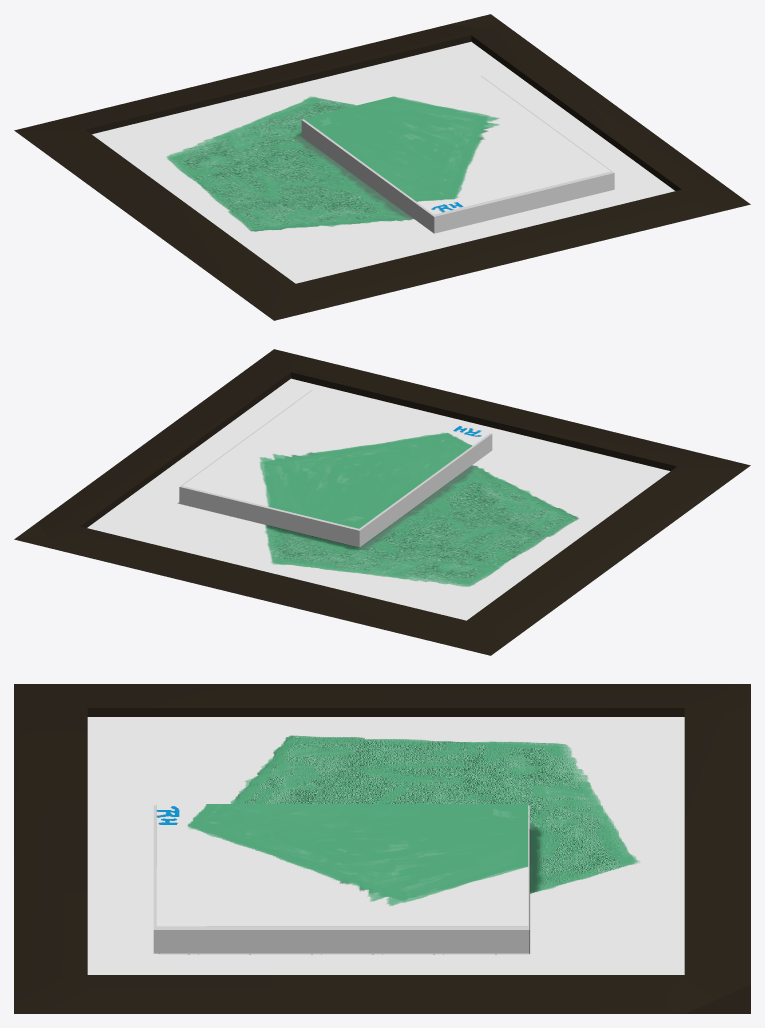
File: Painting8.fbx
3 renders of one model, top to bottom at view 1: azimuth 30°, elevation 25°; view 2: azimuth 150°, elevation 25°; view 3: azimuth 270°, elevation 25°, orthographic. The views are drawn at different scales.
Parts seen in each view (by area): view 1: pPlane1, pCube1, pPlane2, pCube2; view 2: pPlane1, pCube1, pPlane2, pCube2; view 3: pPlane1, pCube1, pPlane2, pCube2.
Boxes of the visible parts, box(x1,y1,x2,y2) form: pPlane1: box(92, 41, 675, 283); pCube1: box(14, 14, 750, 320); pPlane2: box(303, 75, 610, 214); pCube2: box(301, 76, 614, 233); pPlane1: box(87, 378, 670, 620); pCube1: box(14, 349, 750, 655); pPlane2: box(182, 390, 489, 528); pCube2: box(179, 390, 492, 547); pPlane1: box(87, 717, 684, 974); pCube1: box(14, 684, 750, 1013); pPlane2: box(156, 804, 528, 926); pCube2: box(153, 805, 529, 953).
Size of the model in its own units: 13.92 by 0.6828 by 13.15.
Materials: 4 (2 with a texture image).
